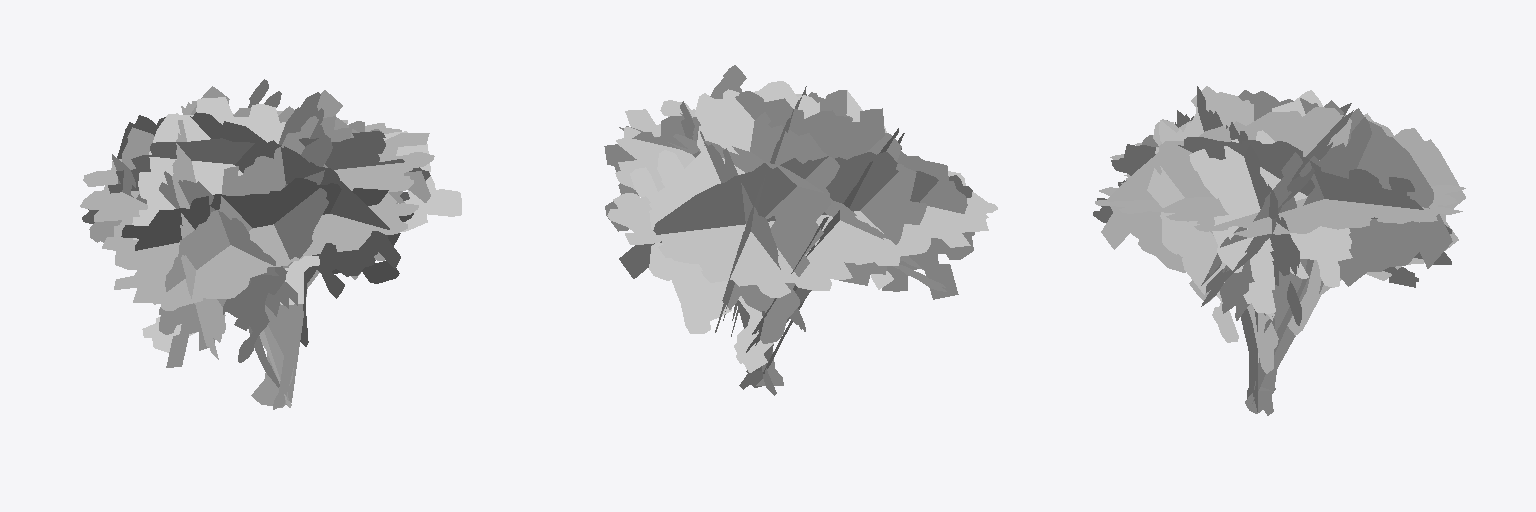
The model's file is billboard.obj.
3 renders of one model, left to right at view 1: azimuth 30°, elevation 25°; view 2: azimuth 150°, elevation 25°; view 3: azimuth 270°, elevation 25°, orthographic.
Visible parts, largest first — view 1: BillboardCloudProxy_0_LOD1; view 2: BillboardCloudProxy_0_LOD1; view 3: BillboardCloudProxy_0_LOD1.
Part boxes in pixels (x1,y1,x2,y2): BillboardCloudProxy_0_LOD1: (80, 79, 461, 409); BillboardCloudProxy_0_LOD1: (604, 65, 997, 395); BillboardCloudProxy_0_LOD1: (1093, 86, 1465, 415).
Bounding box in the file's own units: 367 × 299 × 345.